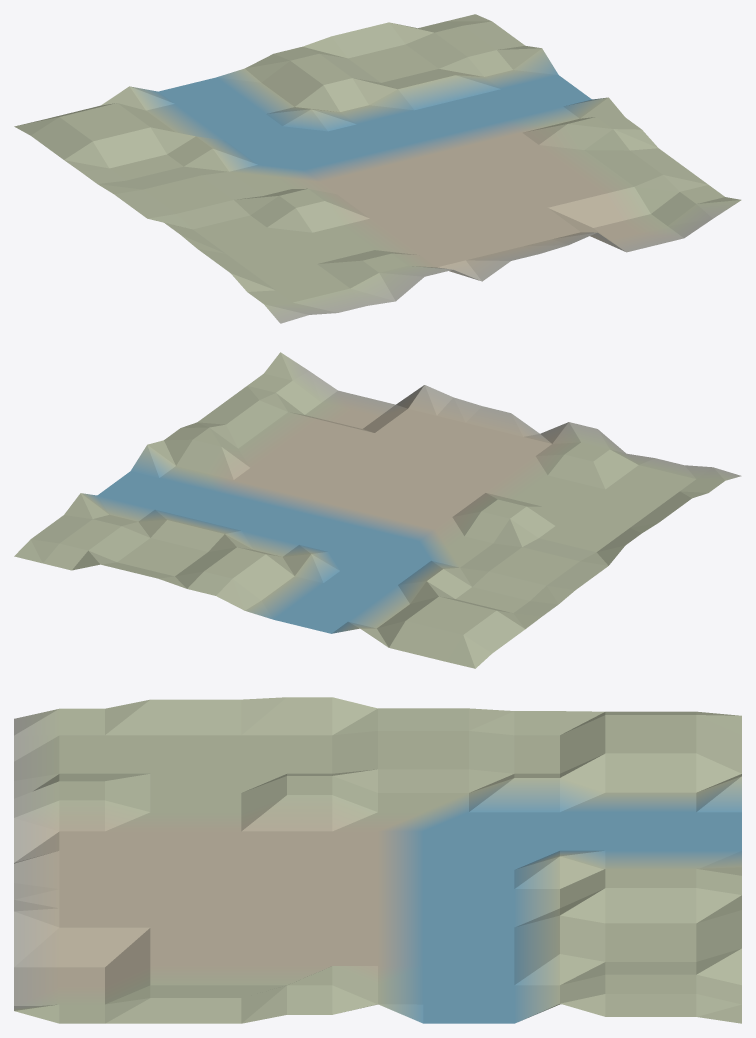
The picture shows the model from 3 angles, top to bottom: view 1: azimuth 30°, elevation 25°; view 2: azimuth 150°, elevation 25°; view 3: azimuth 270°, elevation 25°; orthographic projection. The views are drawn at different scales.
Bounding box in the file's own units: 32 × 1.99 × 32.
